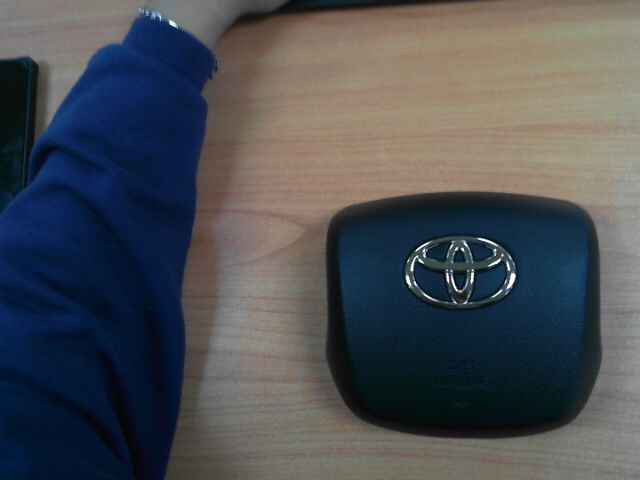AirbagV2: (324, 190, 603, 437)
